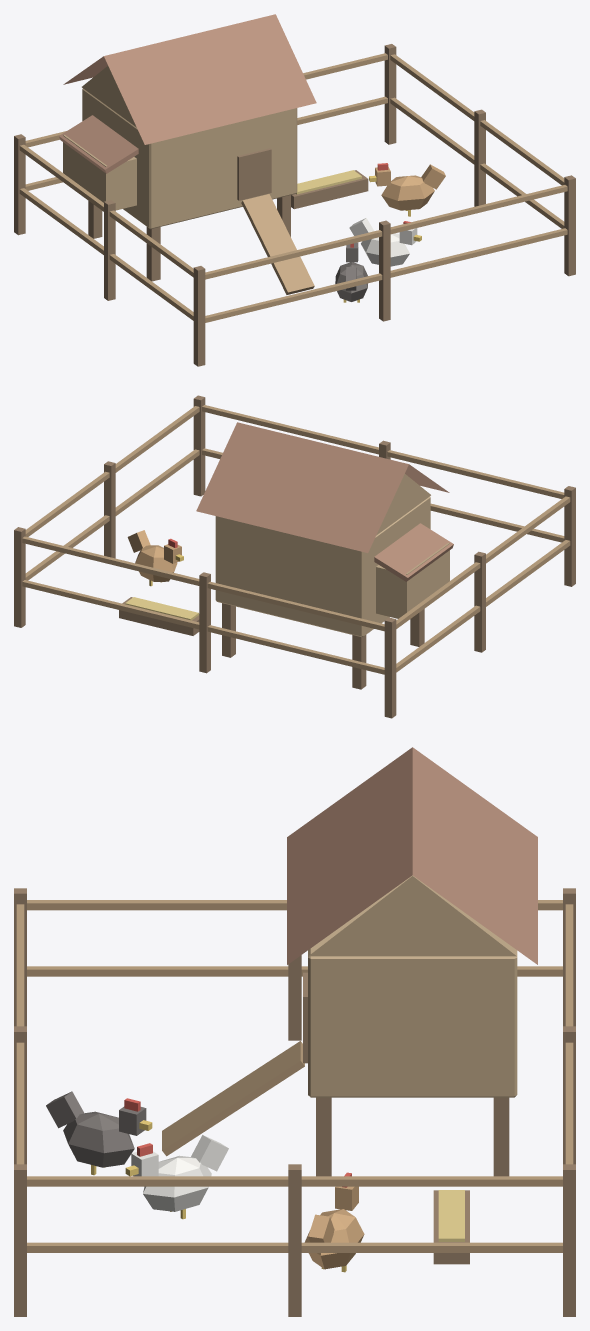
File: coop.glb
The picture shows the model from 3 angles, top to bottom: view 1: azimuth 30°, elevation 25°; view 2: azimuth 150°, elevation 25°; view 3: azimuth 270°, elevation 25°; orthographic projection. The views are drawn at different scales.
Visible parts, largest first — view 1: coop; view 2: coop; view 3: coop.
Part boxes in pixels (bbox=[...]): coop: bbox=[14, 14, 575, 366]; coop: bbox=[14, 395, 575, 718]; coop: bbox=[14, 747, 575, 1316].
Bounding box in the file's own units: 2.55 × 1.33 × 2.15.
